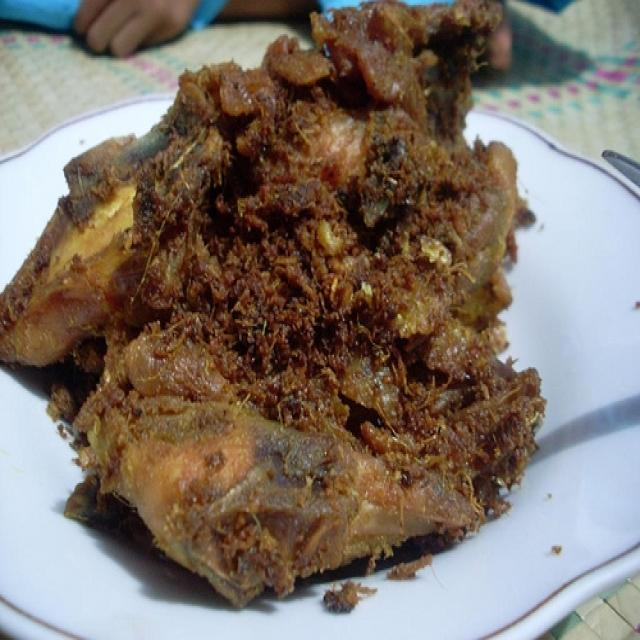鸡肉料理 含炸鸡: (50, 34, 545, 599)
